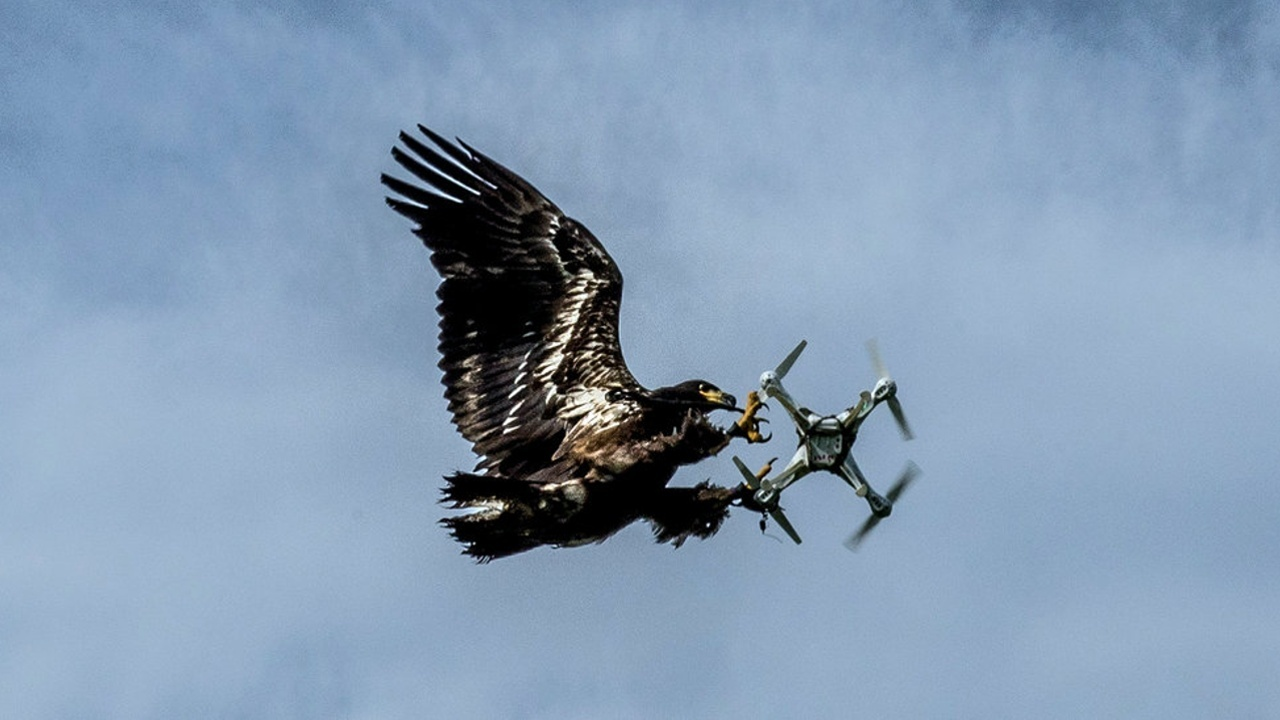Bird: (364, 109, 768, 571)
UAV: (739, 323, 914, 555)
